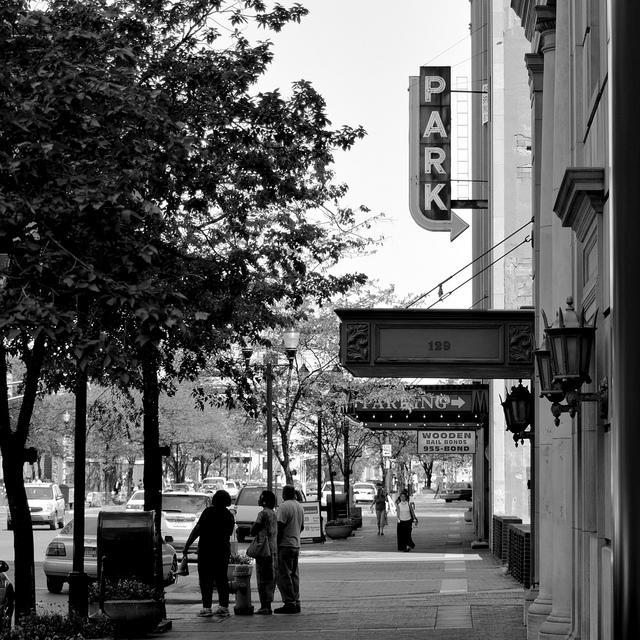fire_hydrant: (227, 560, 253, 616)
